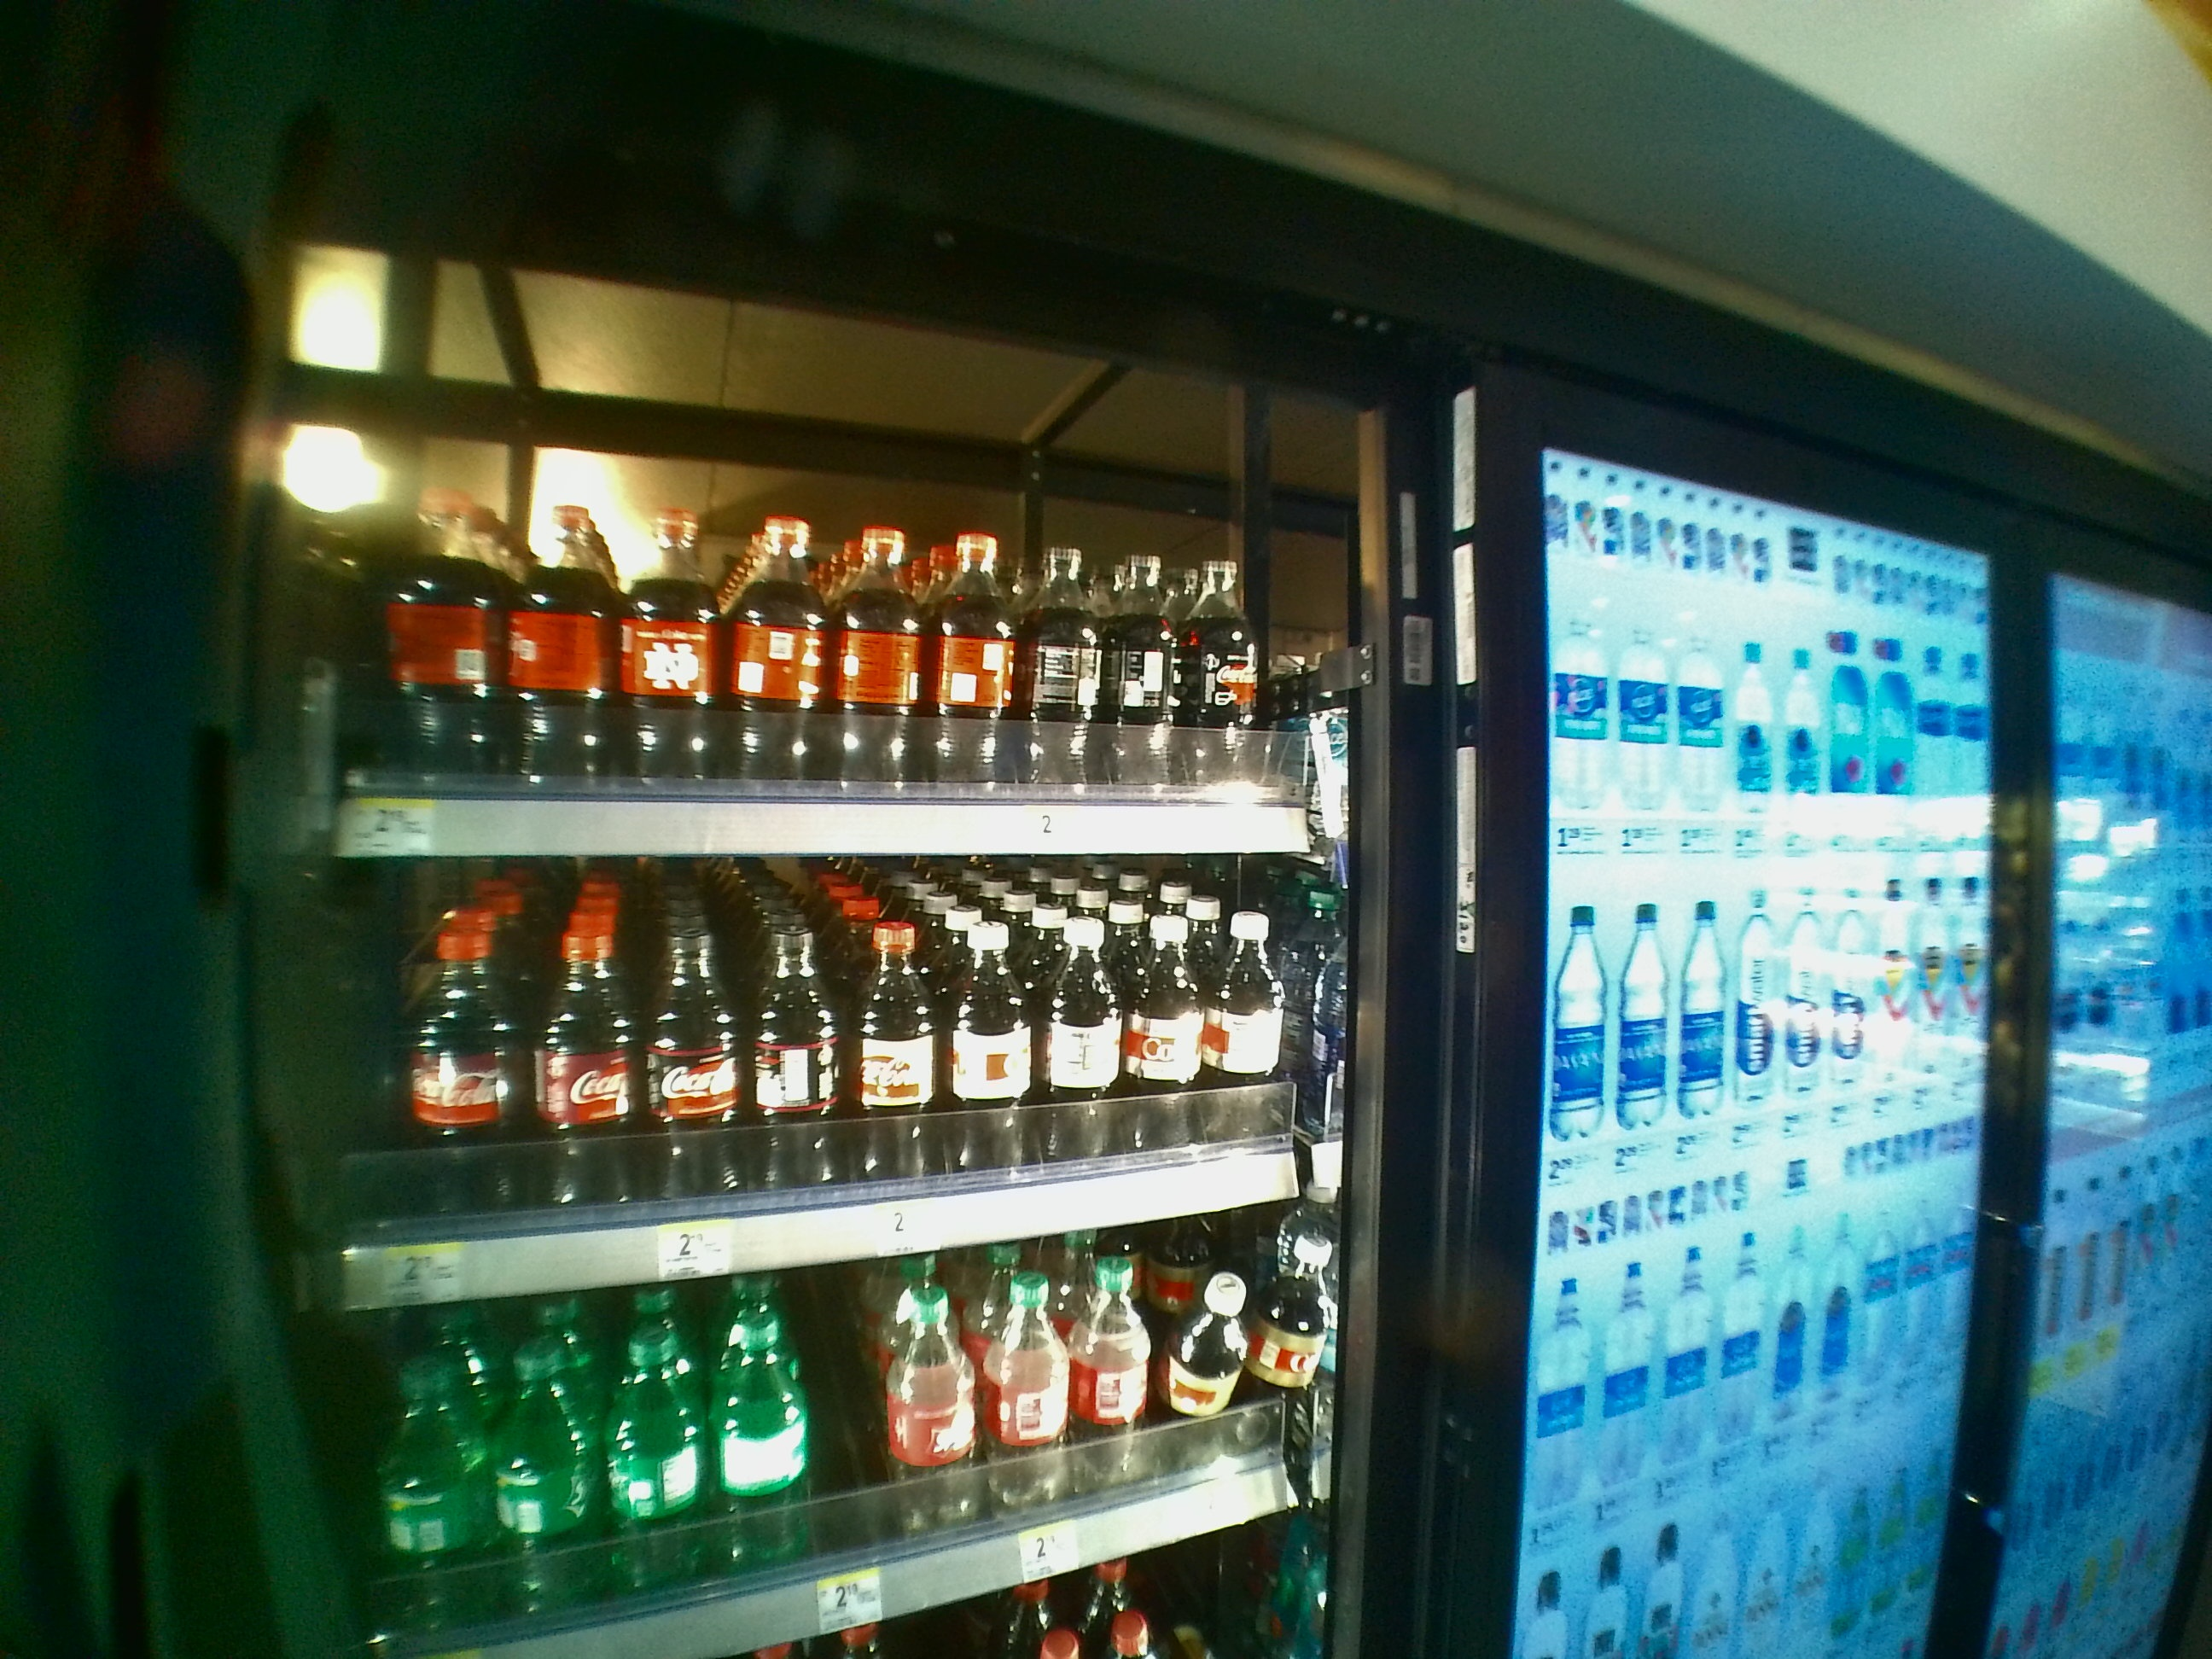shelf: (307, 275, 1353, 871), (312, 871, 1320, 1241)
